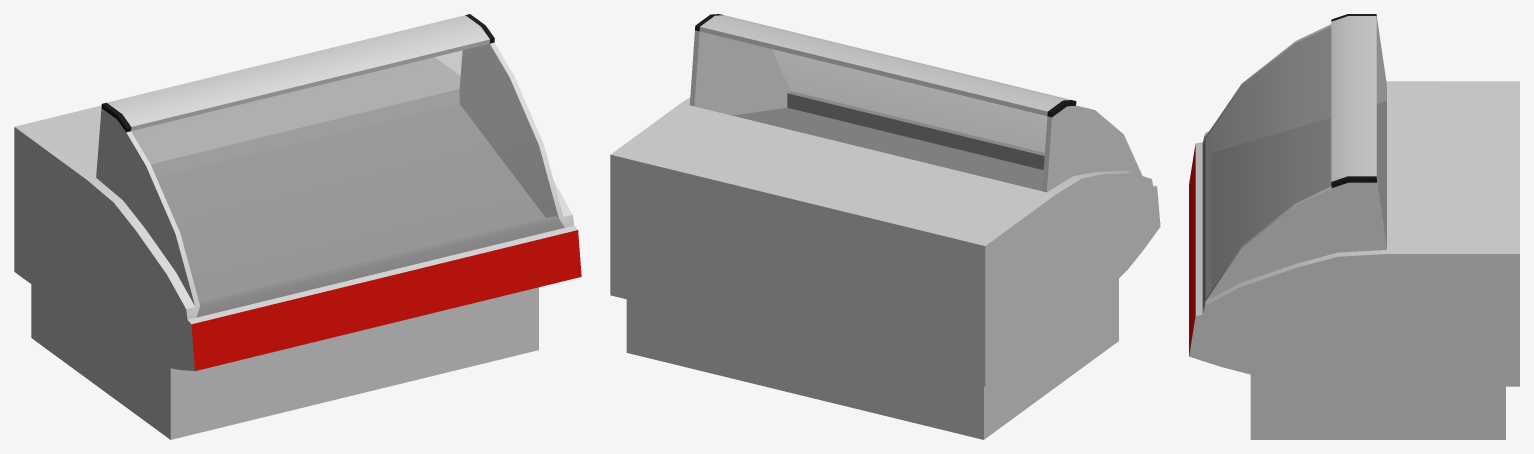
File: ray_store_beef_002.FBX
The picture shows the model from 3 angles, left to right: view 1: azimuth 30°, elevation 25°; view 2: azimuth 150°, elevation 25°; view 3: azimuth 270°, elevation 25°; orthographic projection. The views are drawn at different scales.
Visible parts, largest first — view 1: ray_store_beef_002; view 2: ray_store_beef_002; view 3: ray_store_beef_002.
Boxes of the visible parts, box(x1,y1,x2,y2) form: ray_store_beef_002: box(14, 14, 581, 439); ray_store_beef_002: box(610, 14, 1160, 439); ray_store_beef_002: box(1189, 14, 1519, 439).
Bounding box in the file's own units: 2.02 × 1.43 × 1.64.
